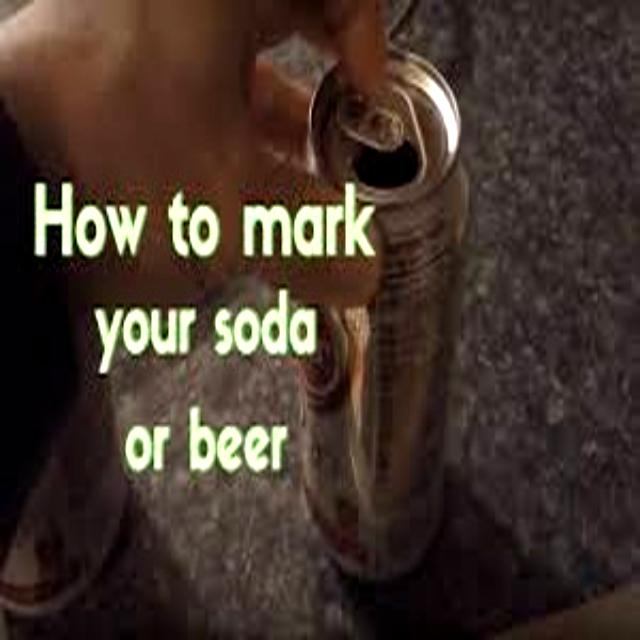Metal: (306, 54, 462, 574)
